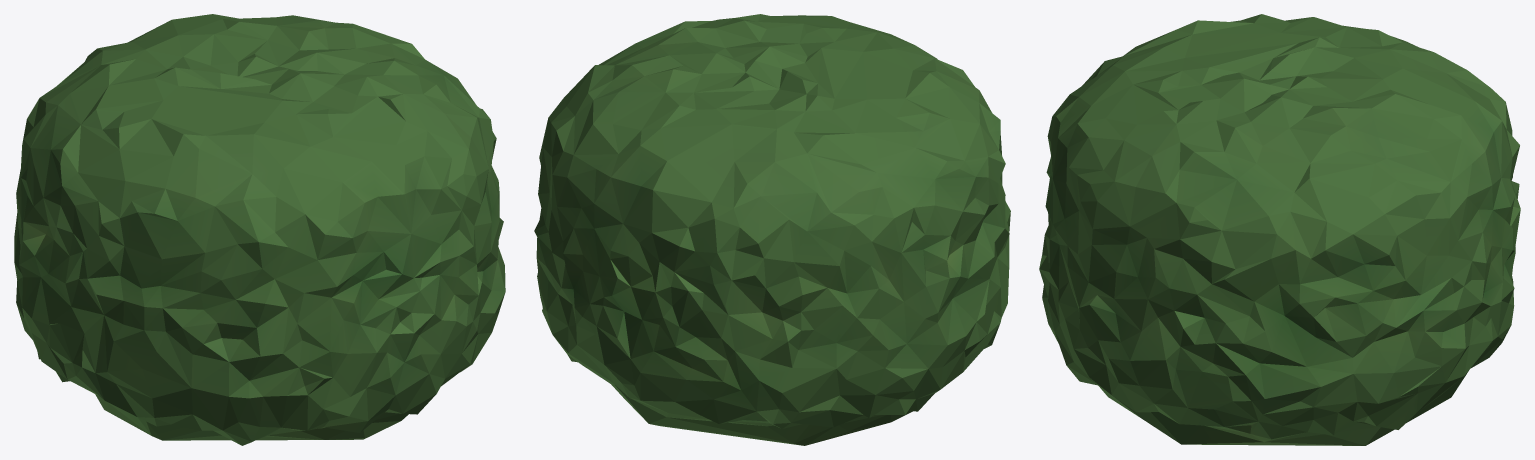
File: bush.glb
The picture shows the model from 3 angles, left to right: view 1: azimuth 30°, elevation 25°; view 2: azimuth 150°, elevation 25°; view 3: azimuth 270°, elevation 25°; orthographic projection.
Visible parts, largest first — view 1: bush; view 2: bush; view 3: bush.
Boxes of the visible parts, box(x1,y1,x2,y2) form: bush: box(14, 14, 505, 445); bush: box(534, 14, 1010, 445); bush: box(1039, 14, 1520, 445).
Bounding box in the file's own units: 1.25 × 0.9001 × 1.24.
